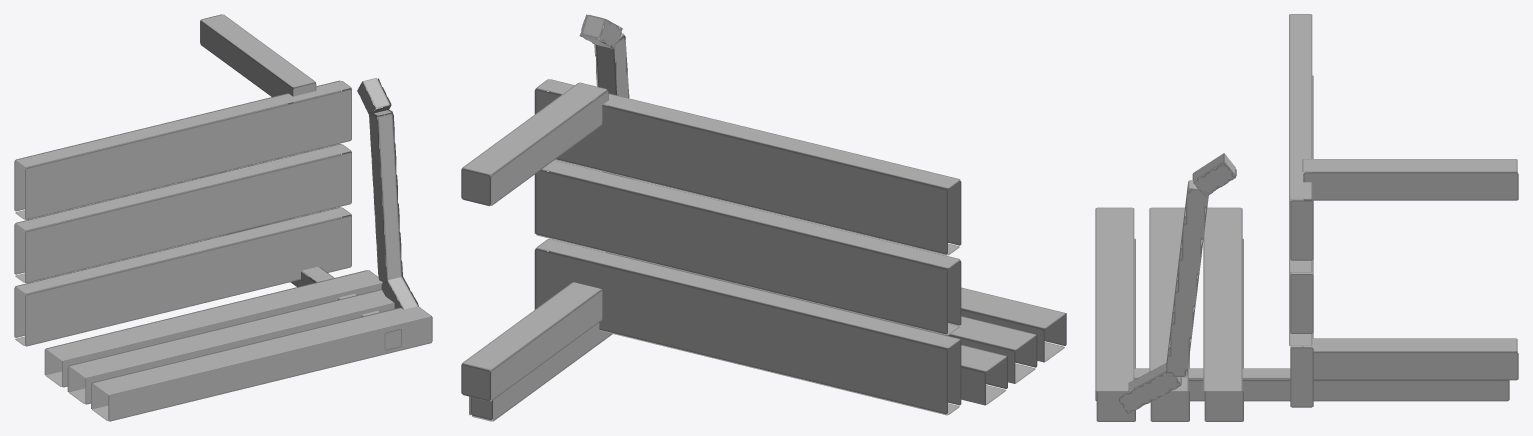
File: pz_benche_seating_outdoor_01_fancy_outdoors_1_0.obj
The picture shows the model from 3 angles, left to right: view 1: azimuth 30°, elevation 25°; view 2: azimuth 150°, elevation 25°; view 3: azimuth 270°, elevation 25°; orthographic projection. The views are drawn at different scales.
Size of the model in its own units: 0.975 by 0.6391 by 0.9403.
1 material, 1 textured.
